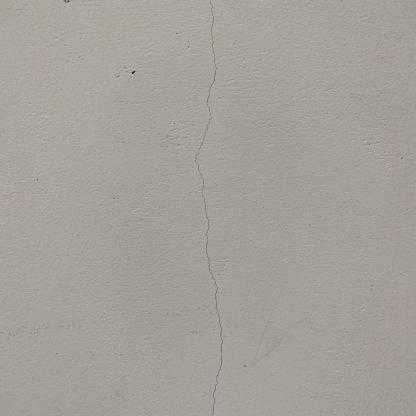crack: (194, 0, 225, 414)
